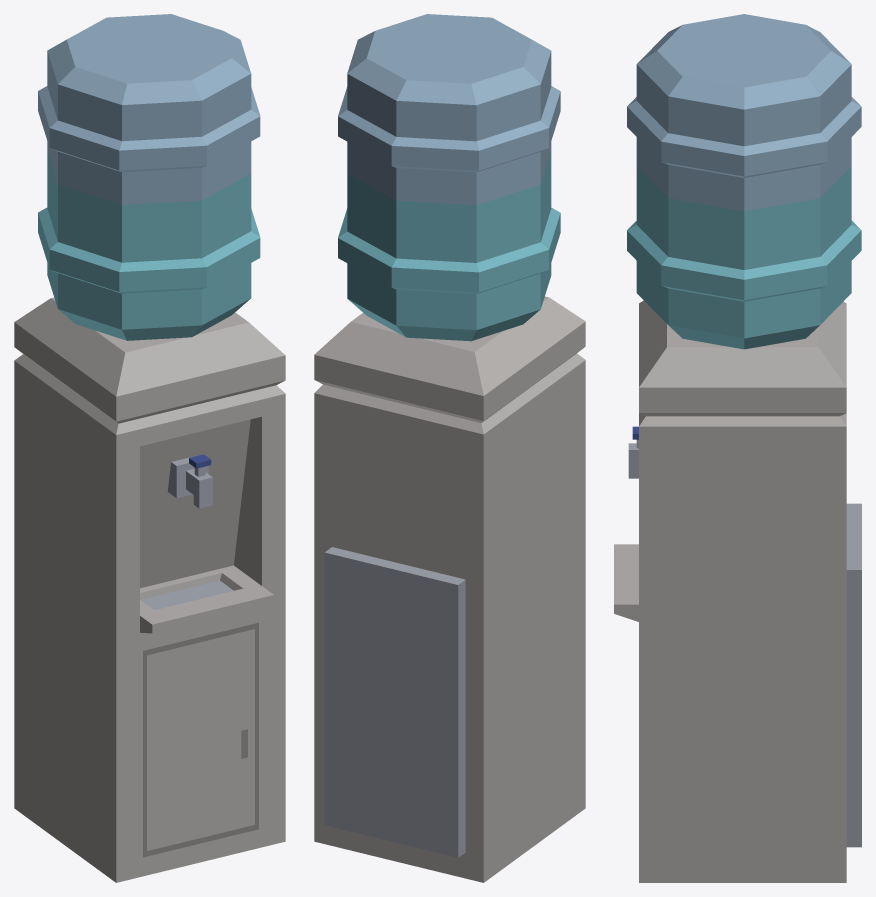
The model's file is WaterCooler.fbx.
The picture shows the model from 3 angles, left to right: view 1: azimuth 30°, elevation 25°; view 2: azimuth 150°, elevation 25°; view 3: azimuth 270°, elevation 25°; orthographic projection.
Parts seen in each view (by area): view 1: WaterCooler; view 2: WaterCooler; view 3: WaterCooler.
Boxes of the visible parts, x1=… form: WaterCooler: x1=14, y1=14, x2=285, y2=882; WaterCooler: x1=314, y1=14, x2=585, y2=882; WaterCooler: x1=614, y1=14, x2=861, y2=882.
Size of the model in its own units: 35.8 by 133 by 37.82.
1 material, 1 textured.
